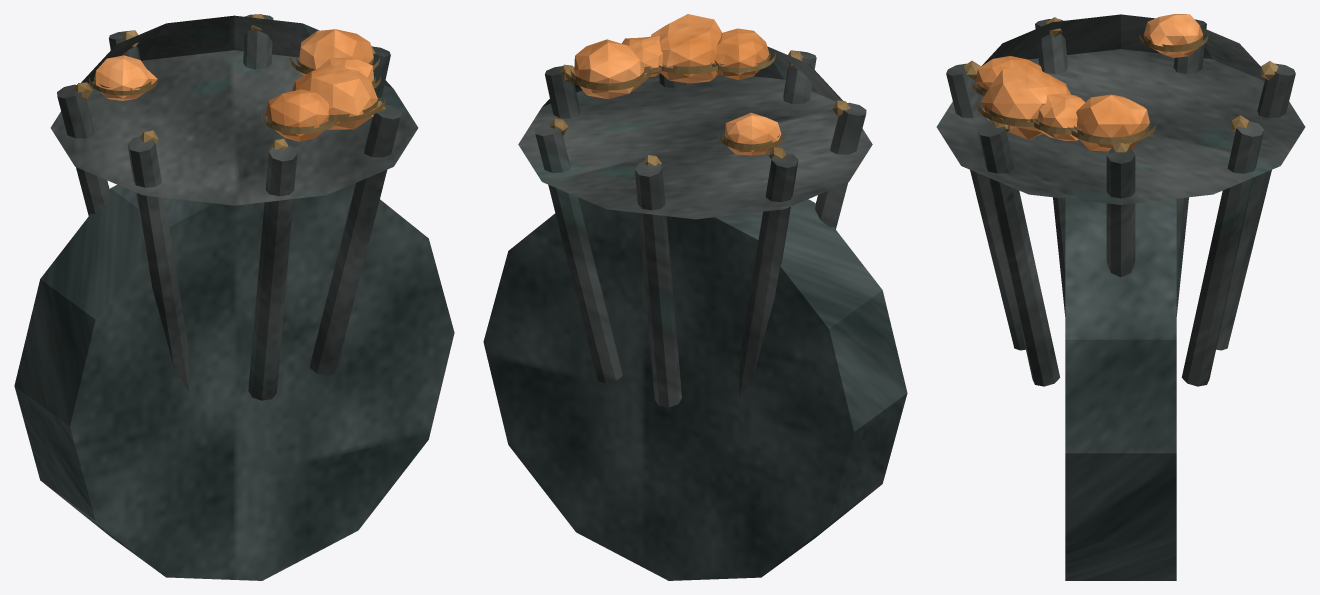
File: 0527_brazier_02.glb
3 views of the same model, side by side, from view 1: azimuth 30°, elevation 25°; view 2: azimuth 150°, elevation 25°; view 3: azimuth 270°, elevation 25° (orthographic). The views are drawn at different scales.
Parts seen in each view (by area): view 1: stone_dark, iron, amber, brass; view 2: stone_dark, iron, amber, brass; view 3: iron, stone_dark, amber, brass.
Boxes of the visible parts, x1,y1,x2,y2 form: stone_dark: (14, 183, 454, 580); iron: (50, 14, 418, 400); amber: (94, 29, 377, 141); brass: (73, 14, 385, 149); stone_dark: (483, 197, 907, 580); iron: (518, 46, 872, 407); amber: (574, 14, 781, 155); brass: (549, 50, 850, 165); iron: (936, 14, 1305, 386); stone_dark: (1065, 198, 1176, 580); amber: (975, 14, 1202, 151); brass: (963, 17, 1278, 152).
Bounding box in the file's own units: 1.4 × 1.78 × 1.16.
Materials: 4 (4 with a texture image).
